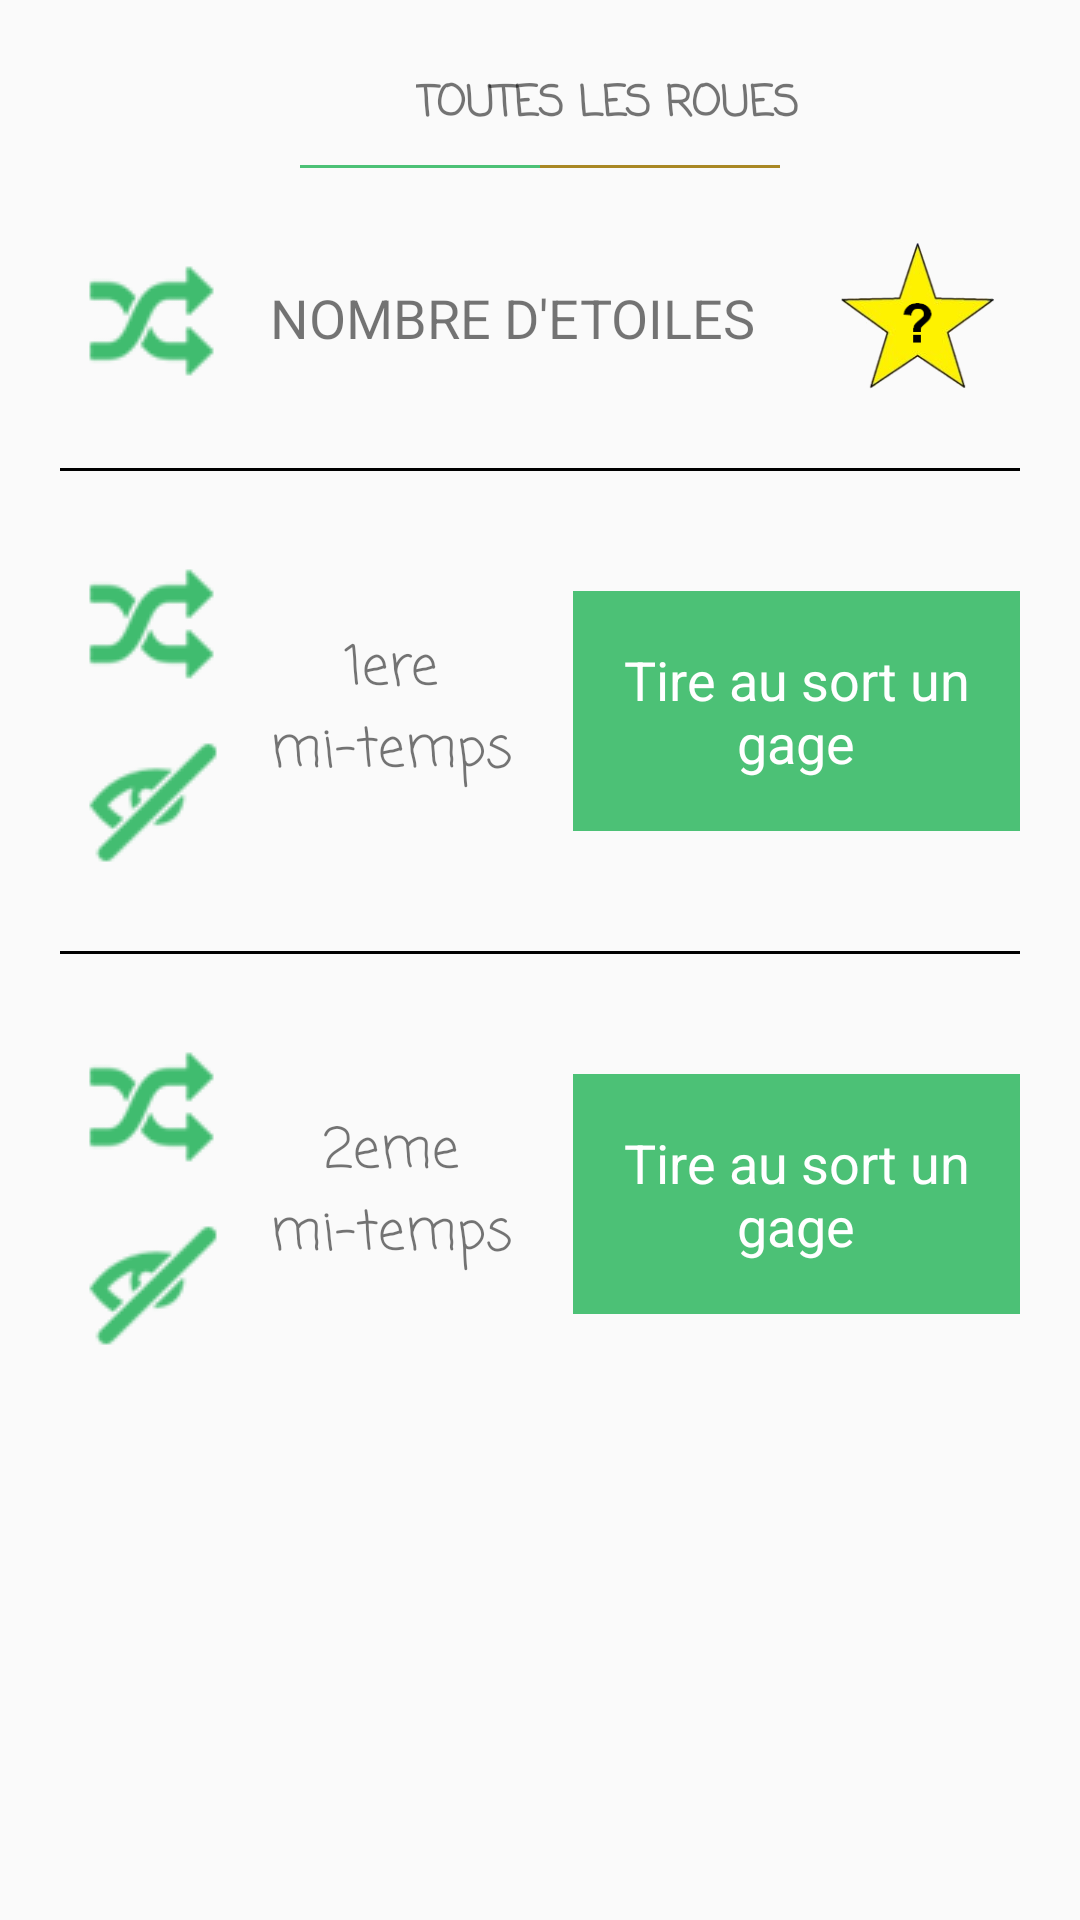

Where icons sit on this 1080×1920 app screen, as (x1, y1, x2, y2):
hide: (89, 743, 217, 862), (89, 1226, 217, 1345)
roll: (89, 266, 214, 376), (89, 569, 214, 679), (89, 1052, 214, 1162)
